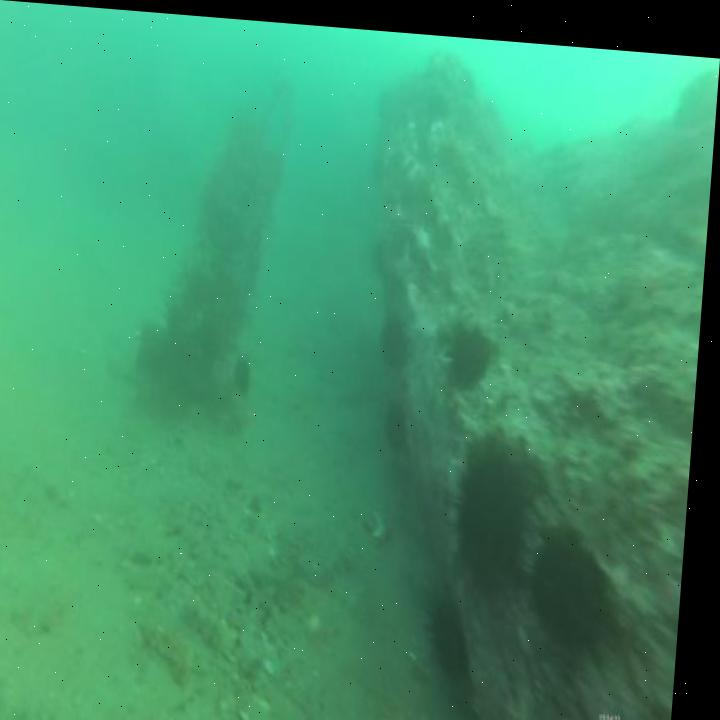echinus: (530, 502, 638, 670), (458, 424, 545, 582), (429, 578, 489, 681), (444, 312, 506, 387), (382, 305, 417, 367), (237, 345, 261, 400)
holothurian: (184, 585, 256, 660), (147, 611, 204, 680)
